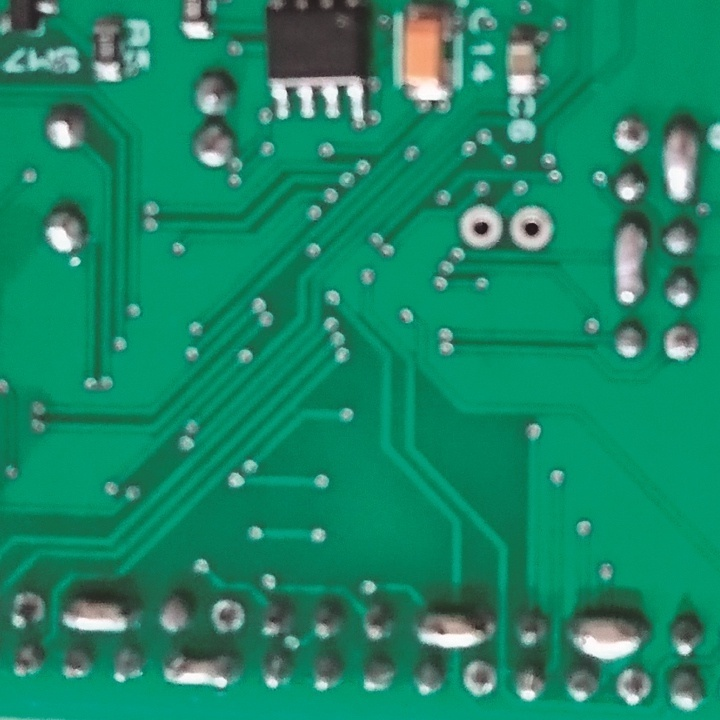F: (507, 203, 552, 249), (458, 202, 502, 249), (461, 657, 499, 701), (9, 589, 46, 634), (210, 598, 247, 640), (616, 667, 654, 707), (661, 324, 698, 365), (614, 117, 648, 154)
P: (565, 609, 651, 659), (164, 648, 244, 694), (610, 218, 650, 309), (416, 606, 496, 651), (659, 116, 699, 203), (59, 590, 138, 630)
